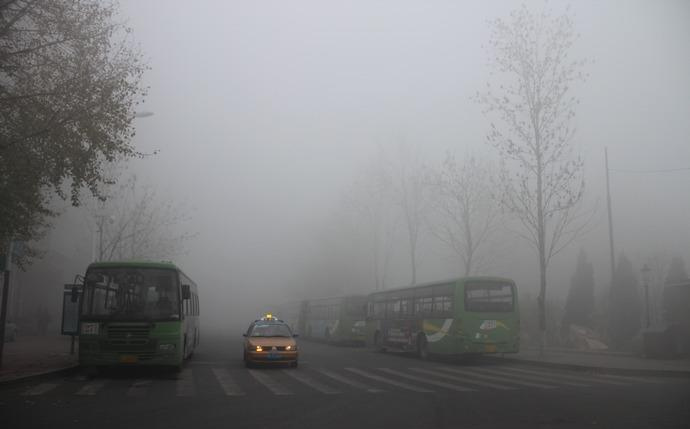bus: (72, 257, 202, 370), (363, 273, 520, 361), (303, 292, 376, 344)
car: (241, 312, 300, 369)
